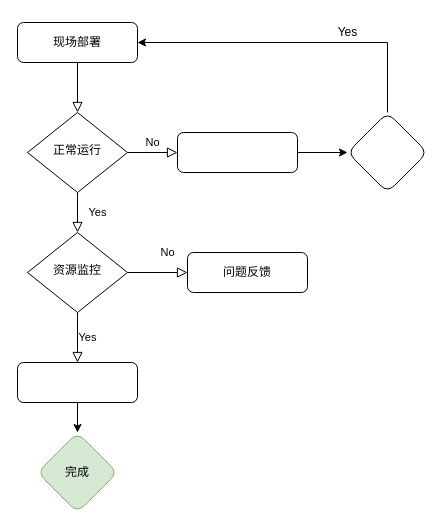
Some shapes in this 445 by 530 pixel diagram are drawn without their labels. Each missing label, with the box of its shape:
反馈开发: (176, 132, 298, 172)
版本升级: (346, 112, 428, 192)
自动清理: (16, 362, 138, 402)
